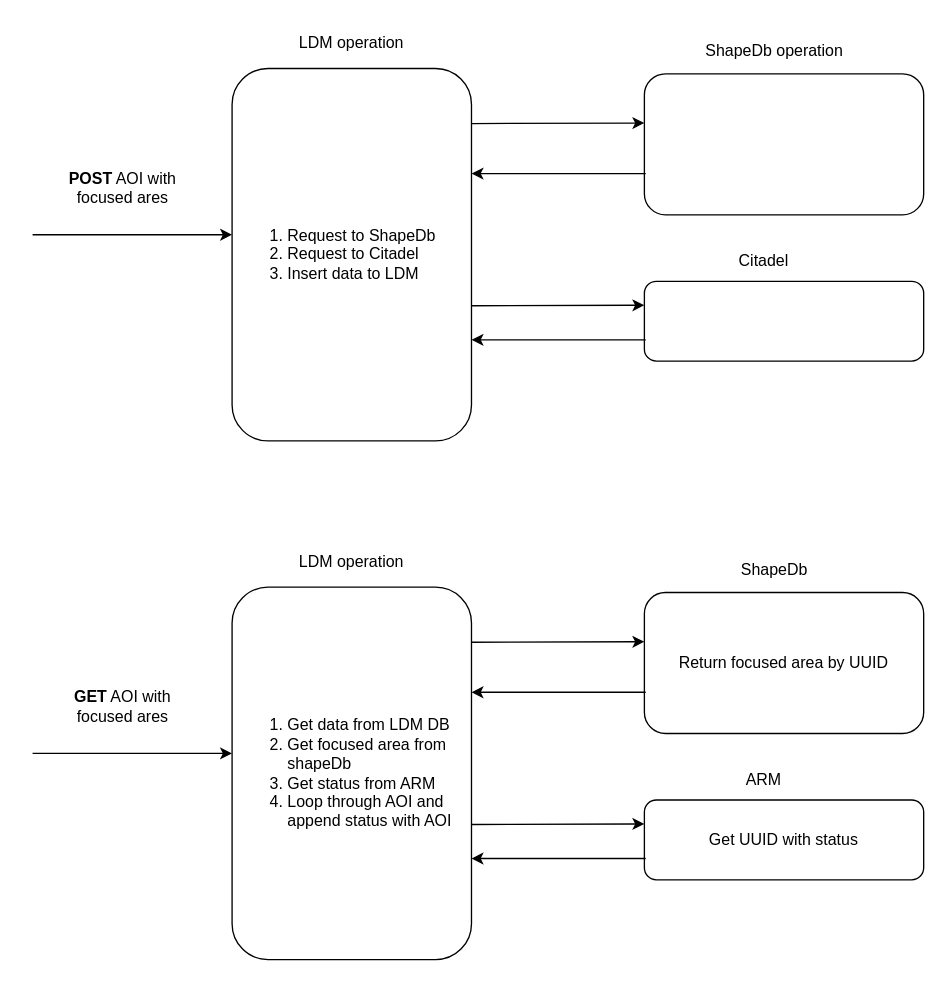
Some shapes in this 947 by 983 pixel diagram are drawn without their labels. Here are the shapes that lost their labels. From the top down, the centre of each, then its label:
At point (783, 143): "Insert aoi Insert focused_area".
At point (783, 320): "Append UUID to contract".
